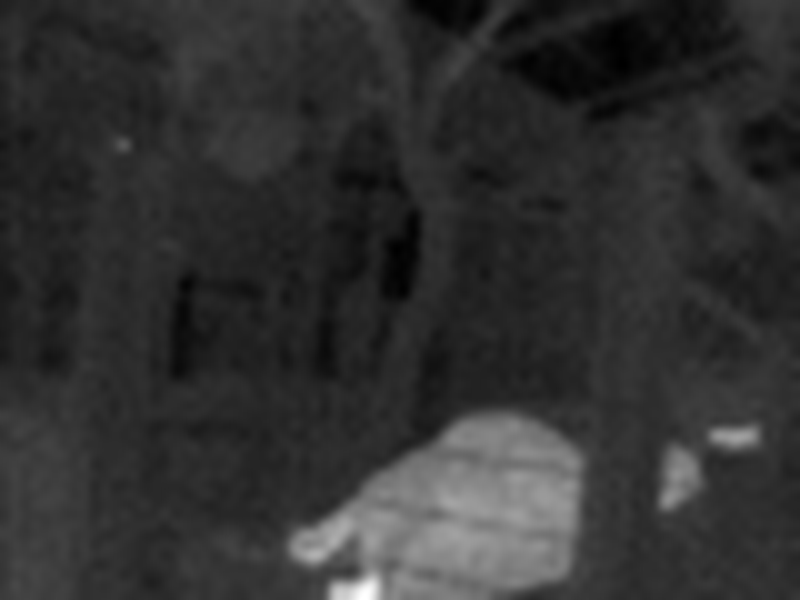elephant: (273, 425, 735, 600)
